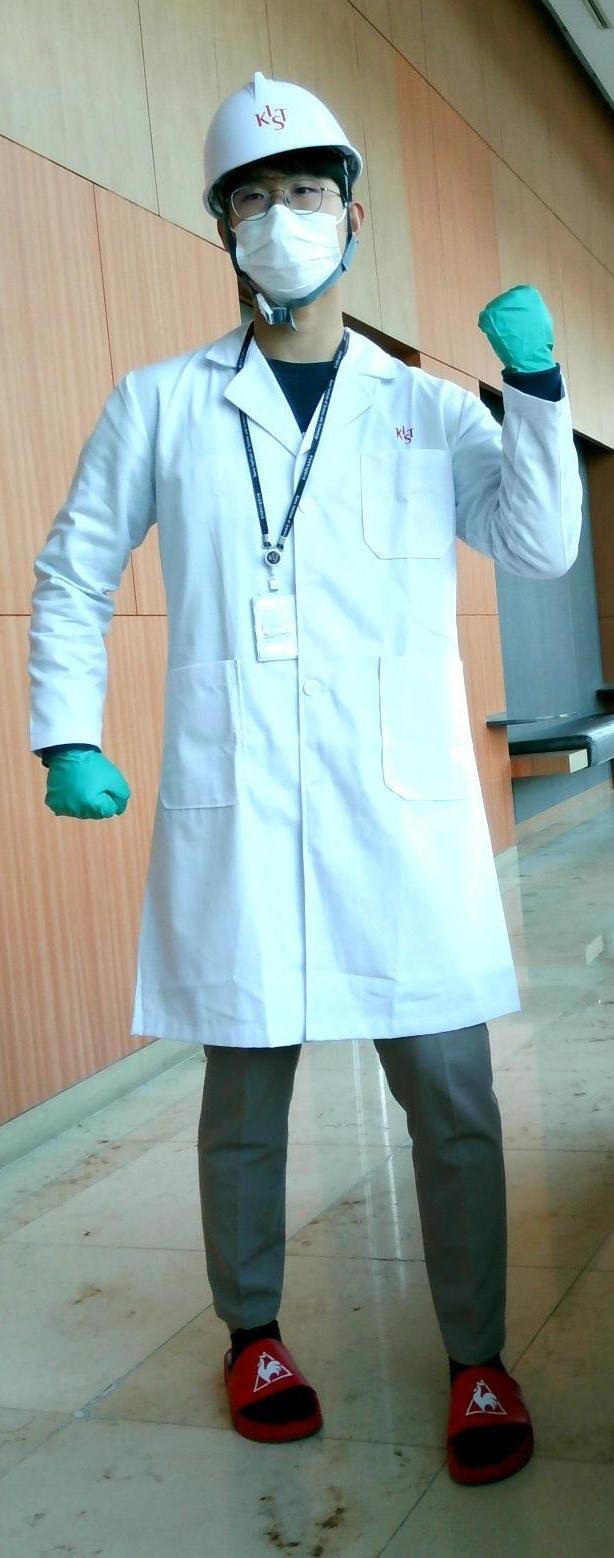lab_coat: (131, 344, 497, 1058)
